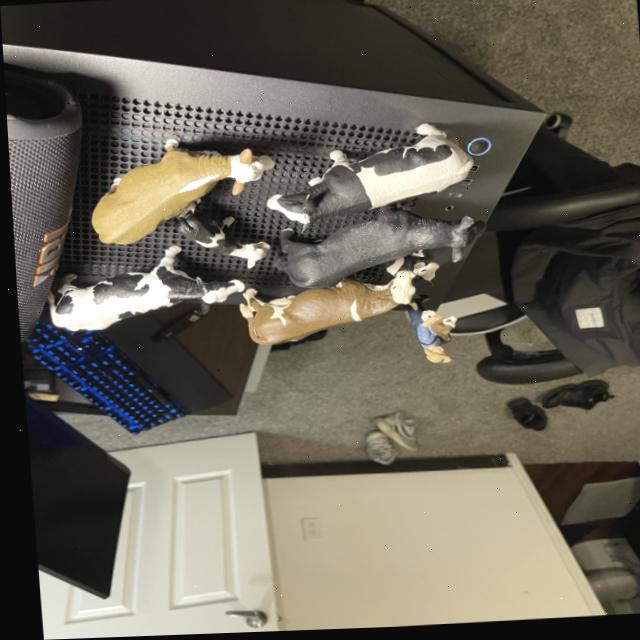cow: (70, 103, 278, 256), (255, 118, 475, 236), (264, 191, 488, 298), (37, 234, 242, 340), (233, 265, 419, 350), (169, 193, 270, 280), (380, 248, 437, 285), (417, 313, 454, 349)
person: (398, 303, 447, 373)
